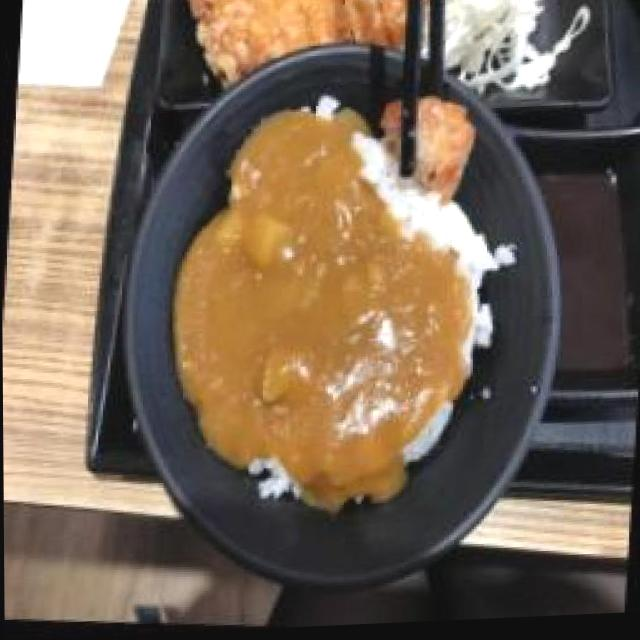curry: (196, 109, 473, 488)
